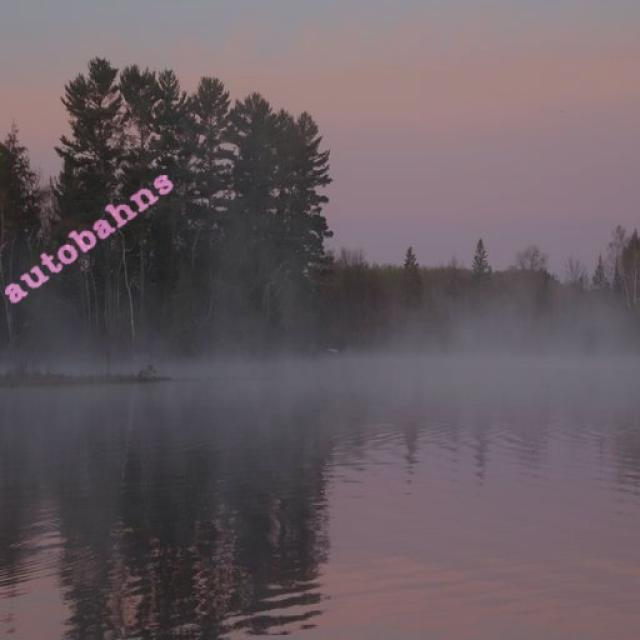watermark: (2, 160, 176, 309)
